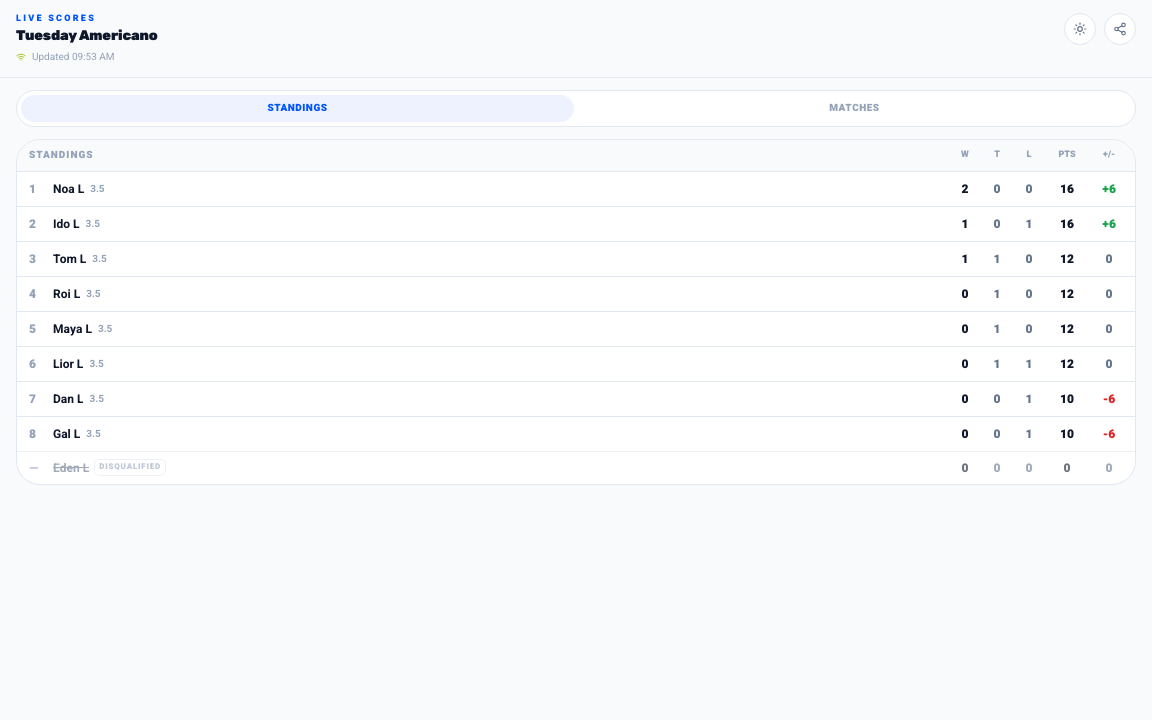
Scenario: the live page for an Americano › prints resting names as typed — an apostrophe, a geresh or an ampersand is never an HTML entity
The image size is (1152, 720).
Step 1. Click the button "Matches" → (854, 108), box [578,94,1131,122]
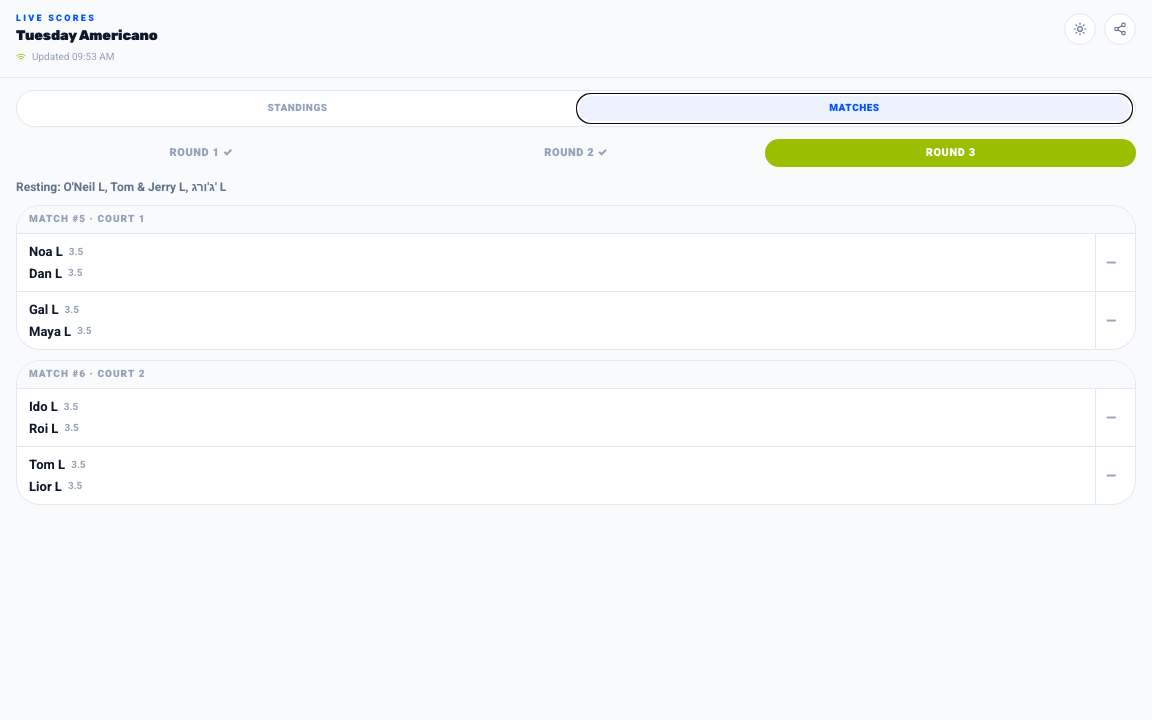
Now the text with test id "round-note" reads "Resting: O'Neil L, Tom & Jerry L, ג'ורג' L", box [16,178,226,196]
